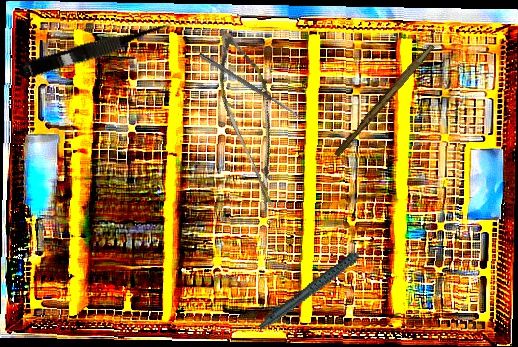Handpiece: (246, 241, 391, 331)
Micro Scissor: (189, 27, 317, 216), (15, 16, 178, 84)
Scalpel Handle: (333, 40, 435, 160)
Surgical Spoon: (197, 52, 304, 121)
